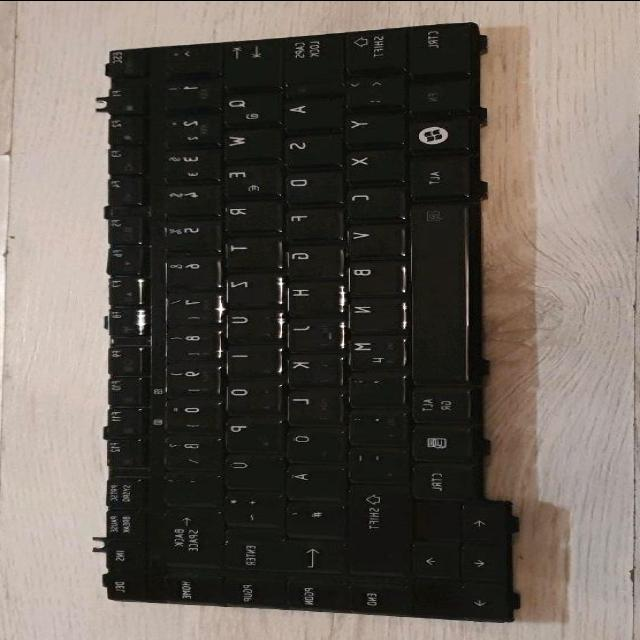0: (159, 395, 217, 430)
1: (156, 76, 214, 104)
2: (156, 110, 217, 143)
3: (157, 146, 217, 179)
4: (159, 182, 215, 212)
5: (159, 217, 215, 248)
6: (160, 253, 216, 286)
7: (161, 289, 215, 323)
8: (162, 323, 218, 356)
9: (161, 360, 215, 392)
a: (280, 95, 338, 125)
accent: (158, 470, 219, 502)
ae: (281, 463, 342, 496)
alt-left: (402, 153, 466, 195)
altgr-right: (406, 384, 468, 419)
b: (341, 257, 401, 292)
c: (342, 184, 400, 216)
caret: (160, 40, 216, 70)
comma: (344, 370, 402, 403)
d: (280, 168, 340, 200)
del: (157, 508, 218, 568)
e: (219, 161, 279, 196)
enter: (219, 528, 342, 570)
f: (281, 205, 339, 237)
g: (280, 242, 338, 275)
h: (280, 278, 338, 311)
hash: (281, 499, 343, 533)
i: (220, 341, 276, 373)
j: (280, 315, 340, 347)
k: (280, 350, 338, 384)
keyboard: (91, 16, 519, 625)
l: (281, 388, 341, 423)
less: (341, 73, 401, 106)
m: (342, 332, 402, 367)
minus: (343, 444, 405, 479)
n: (342, 295, 400, 329)
o: (220, 377, 276, 411)
oe: (281, 426, 343, 460)
p: (219, 415, 279, 449)
plus: (219, 489, 280, 523)
point: (343, 408, 403, 440)
q: (218, 89, 278, 123)
r: (219, 197, 279, 229)
s: (280, 132, 338, 162)
shift-left: (341, 25, 403, 67)
shift-lock: (277, 30, 341, 90)
shift-right: (347, 480, 407, 572)
space: (404, 200, 465, 381)
ss: (159, 433, 217, 467)
strg-left: (403, 19, 469, 71)
strg-right: (405, 460, 472, 496)
t: (219, 233, 275, 265)
tab: (219, 37, 277, 84)
u: (219, 306, 277, 338)
ue: (219, 451, 279, 486)
v: (341, 220, 399, 253)
w: (218, 126, 276, 156)
x: (341, 145, 401, 179)
y: (341, 110, 399, 140)
z: (219, 270, 277, 304)
